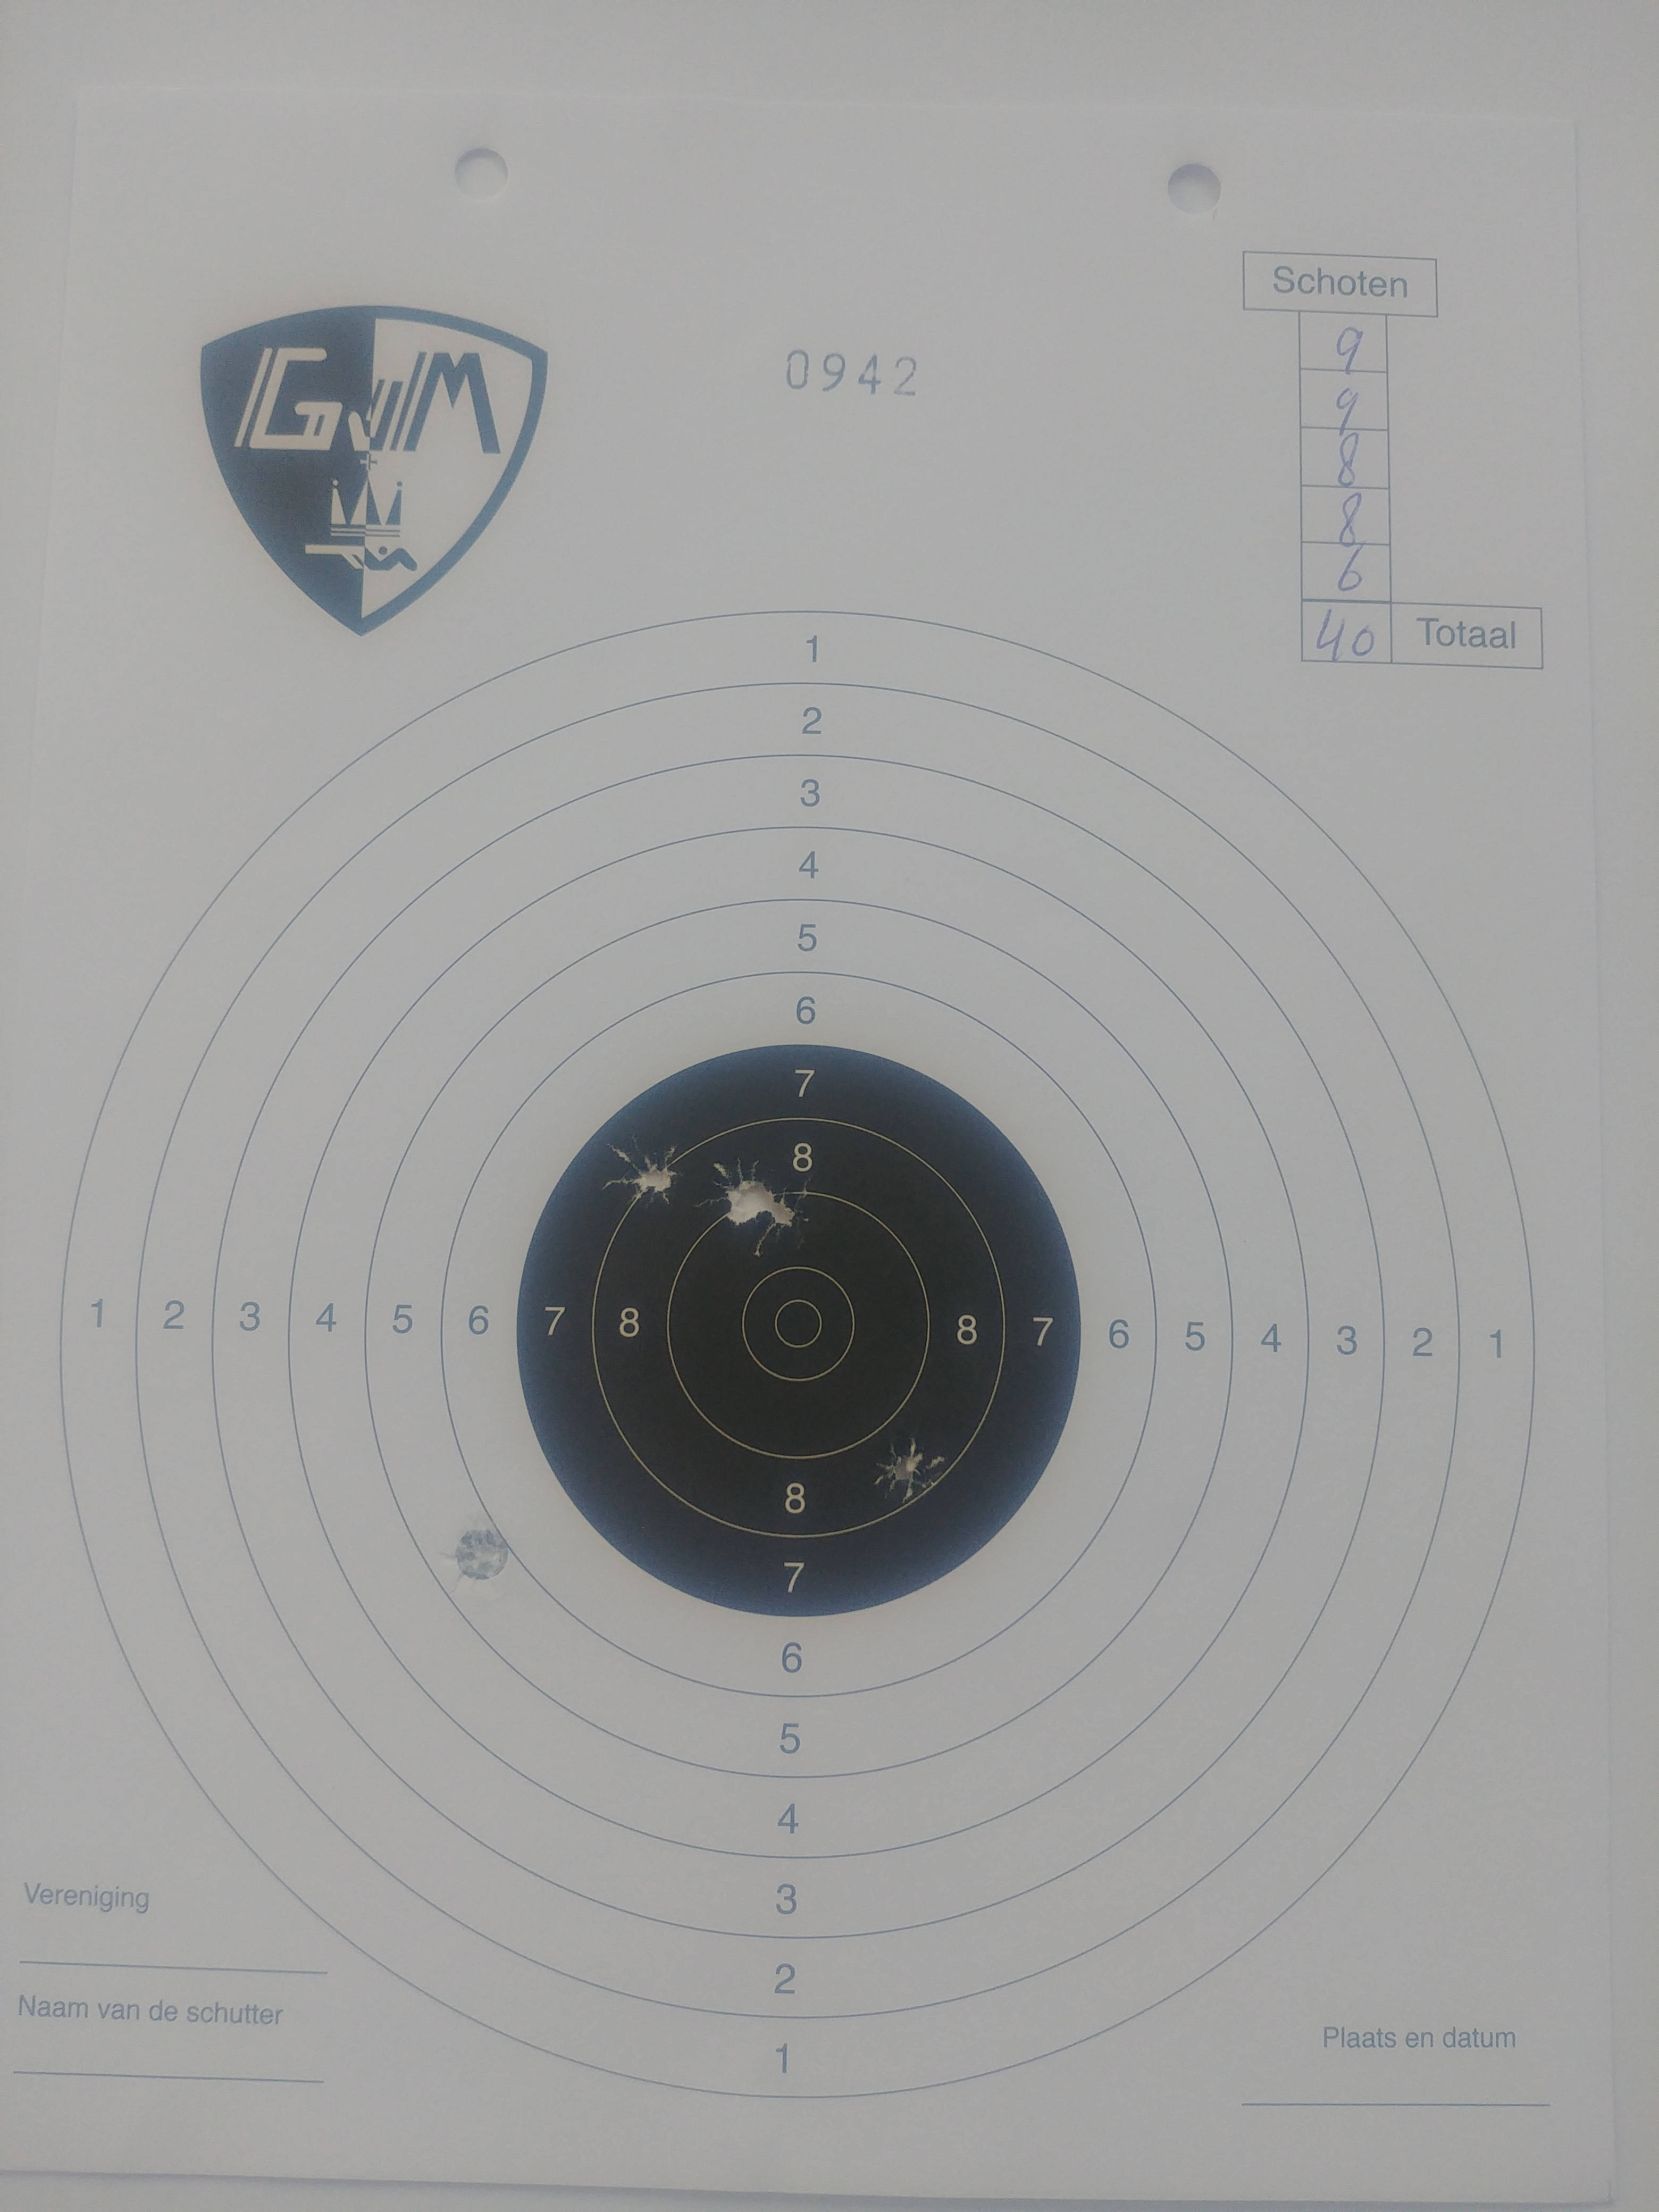center: (516, 1043, 1082, 1618)
out: (59, 610, 1537, 2099)
shot: (599, 1134, 687, 1207), (692, 1155, 775, 1226), (873, 1435, 950, 1503), (753, 1176, 816, 1258), (451, 1527, 509, 1580)
target: (741, 1264, 854, 1383)
